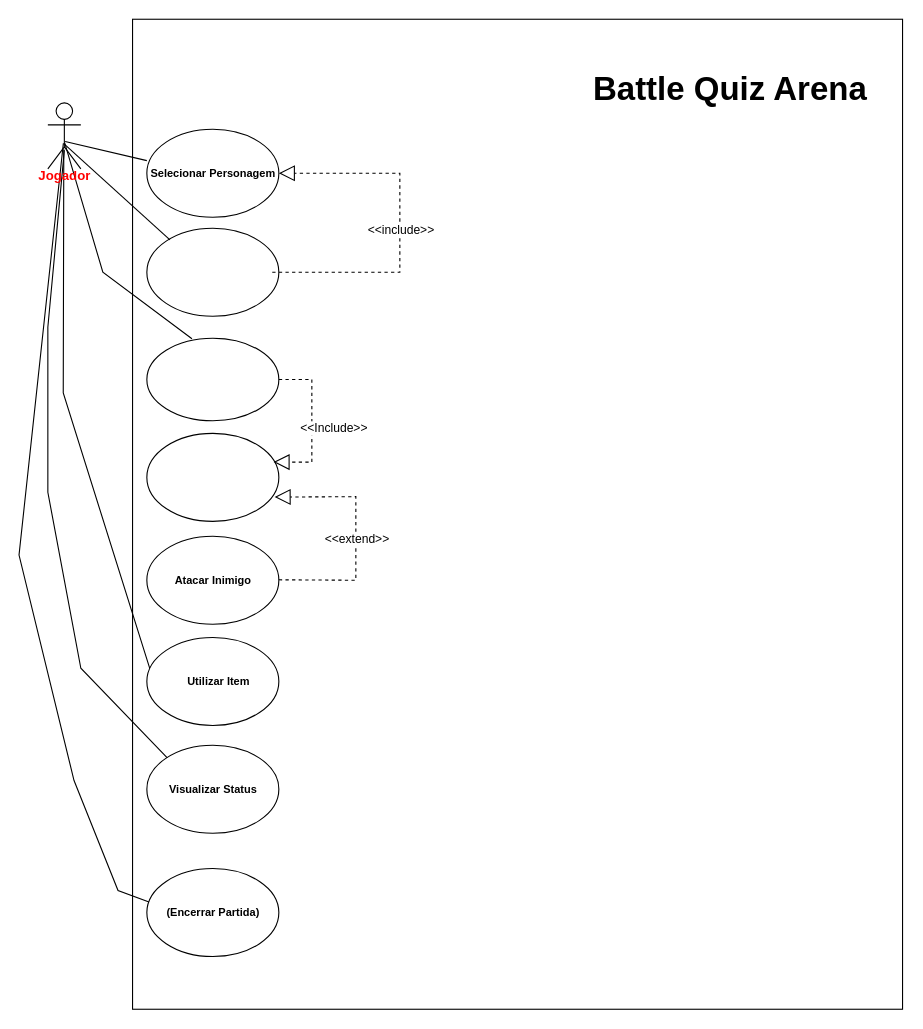
Image size: 923x1029. Some labels were removed from this diagram. Here are the shapes that lost their labels. From the top down, the box of each, then its label:
(146, 227, 279, 316): Iniciar Partida
(146, 337, 279, 421): Responder Pergunta
(146, 432, 279, 521): Validar Resposta
